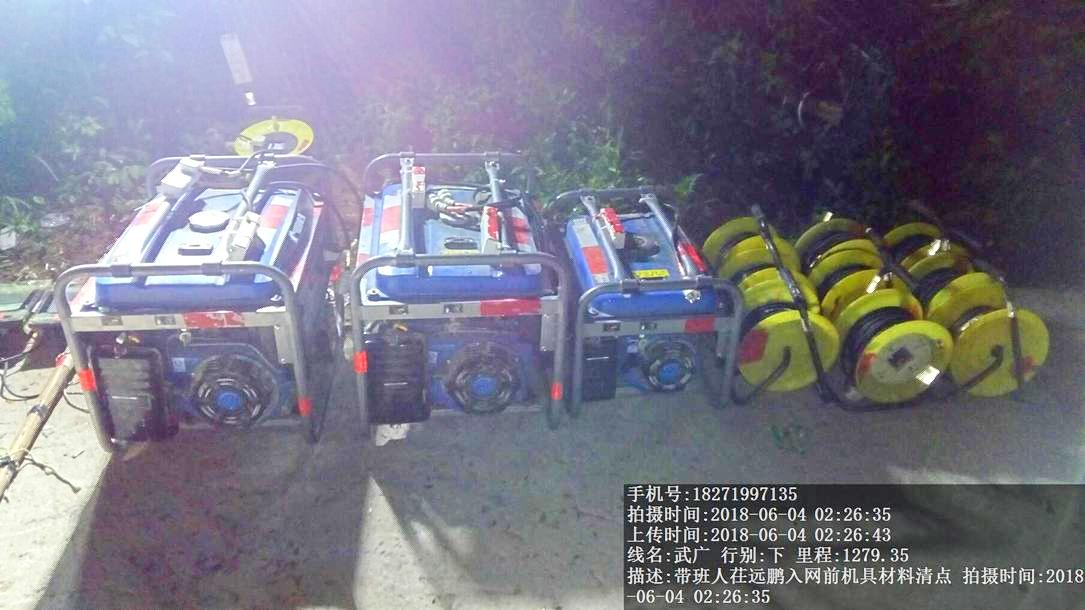DJ: (68, 158, 330, 452), (357, 154, 565, 433), (557, 185, 739, 411)
DX: (840, 286, 951, 411), (947, 274, 1056, 399), (734, 268, 836, 400)
